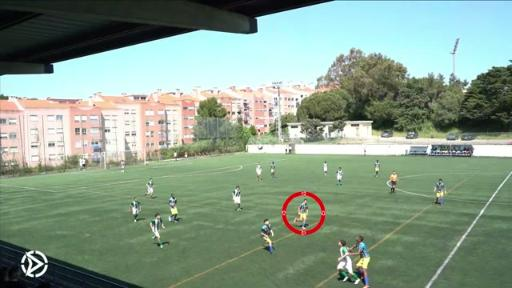highlight_overlay: (283, 192, 326, 237)
